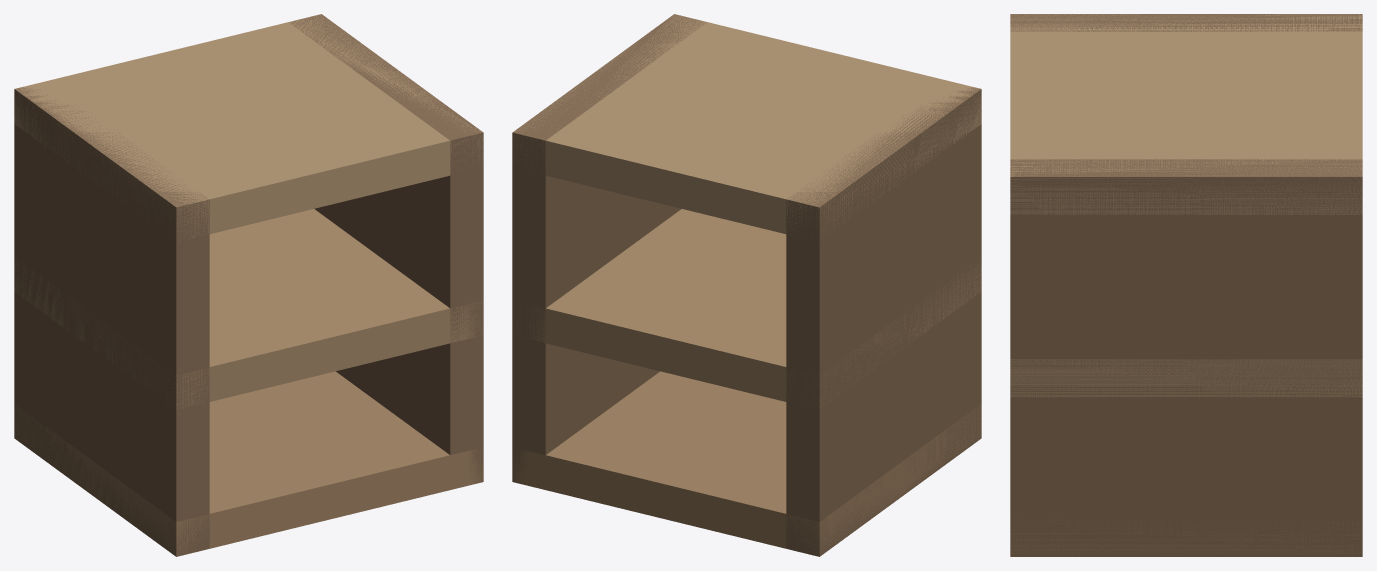
File: shelf.gltf
3 renders of one model, left to right at view 1: azimuth 30°, elevation 25°; view 2: azimuth 150°, elevation 25°; view 3: azimuth 270°, elevation 25°, orthographic. The views are drawn at different scales.
Parts seen in each view (by area): view 1: shelf; view 2: shelf; view 3: shelf.
Boxes of the visible parts, left/top/right/bottom form: shelf: left=14, top=14, right=483, bottom=556; shelf: left=512, top=14, right=981, bottom=556; shelf: left=1010, top=14, right=1362, bottom=556.
Size of the model in its own units: 0.92 by 1 by 0.84.
